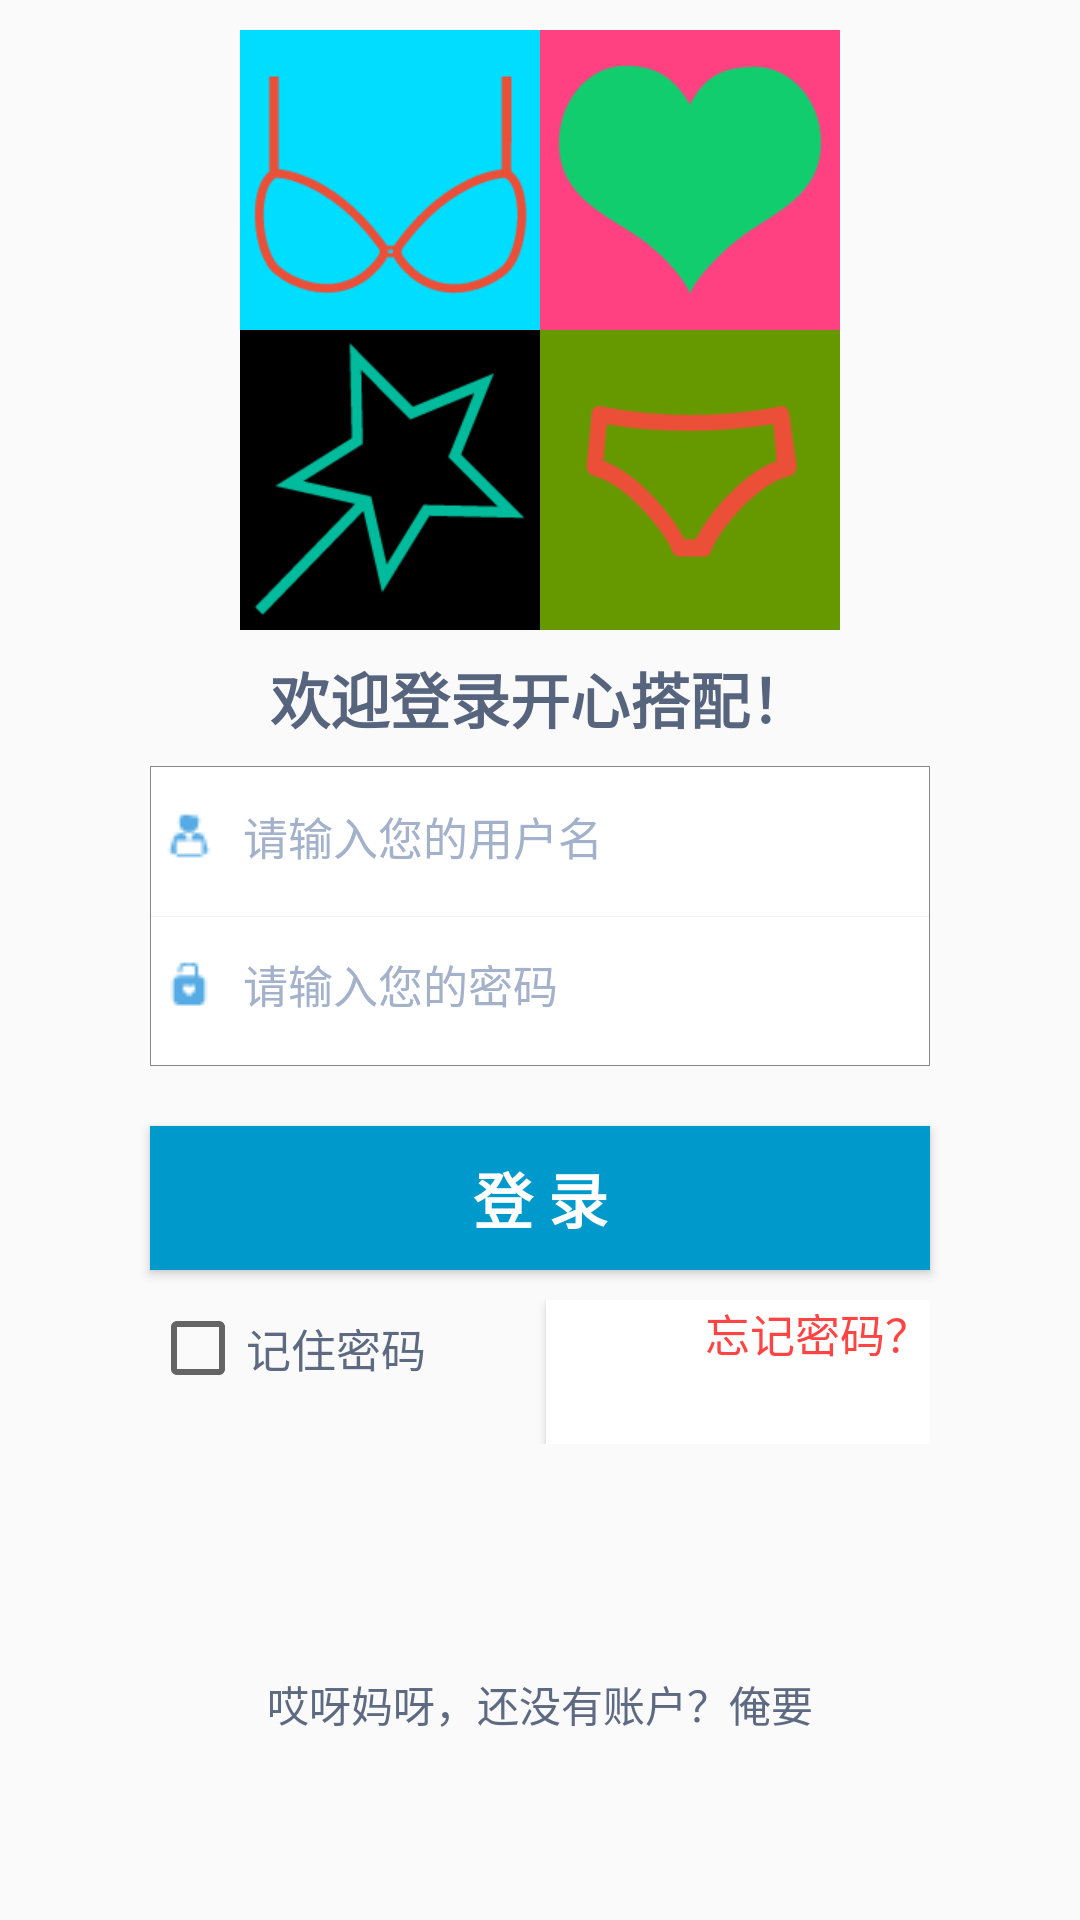

Icons on this 1080×1920 Android screen, each with the point to tap as (x,y):
heart: (690,180)
lowerstart: (690,480)
magic: (390,480)
upperstart: (390,180)
